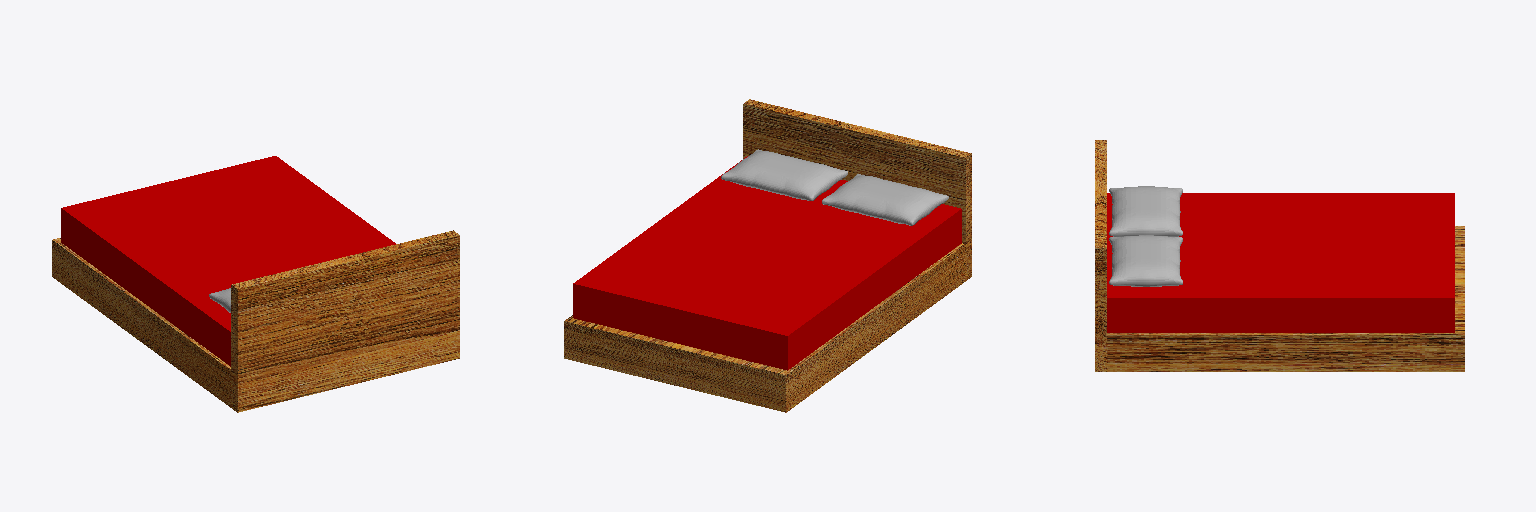
3 renders of one model, left to right at view 1: azimuth 30°, elevation 25°; view 2: azimuth 150°, elevation 25°; view 3: azimuth 270°, elevation 25°, orthographic.
Parts seen in each view (by area): view 1: Base_Cubo, Colchão_Cubo.002; view 2: Colchão_Cubo.002, Base_Cubo, Travesseiros_obj_0.001; view 3: Colchão_Cubo.002, Base_Cubo, Travesseiros_obj_0.001.
Part boxes in pixels (x1,y1,x2,y2): Base_Cubo: (52,230,459,412); Colchão_Cubo.002: (61,156,395,366); Colchão_Cubo.002: (573,156,961,370); Base_Cubo: (564,99,971,412); Travesseiros_obj_0.001: (721,149,948,225); Colchão_Cubo.002: (1107,193,1454,332); Base_Cubo: (1095,140,1464,371); Travesseiros_obj_0.001: (1109,186,1182,286).
Bounding box in the file's own units: 29.02 × 15.45 × 41.95.
Materials: 3 (1 with a texture image).